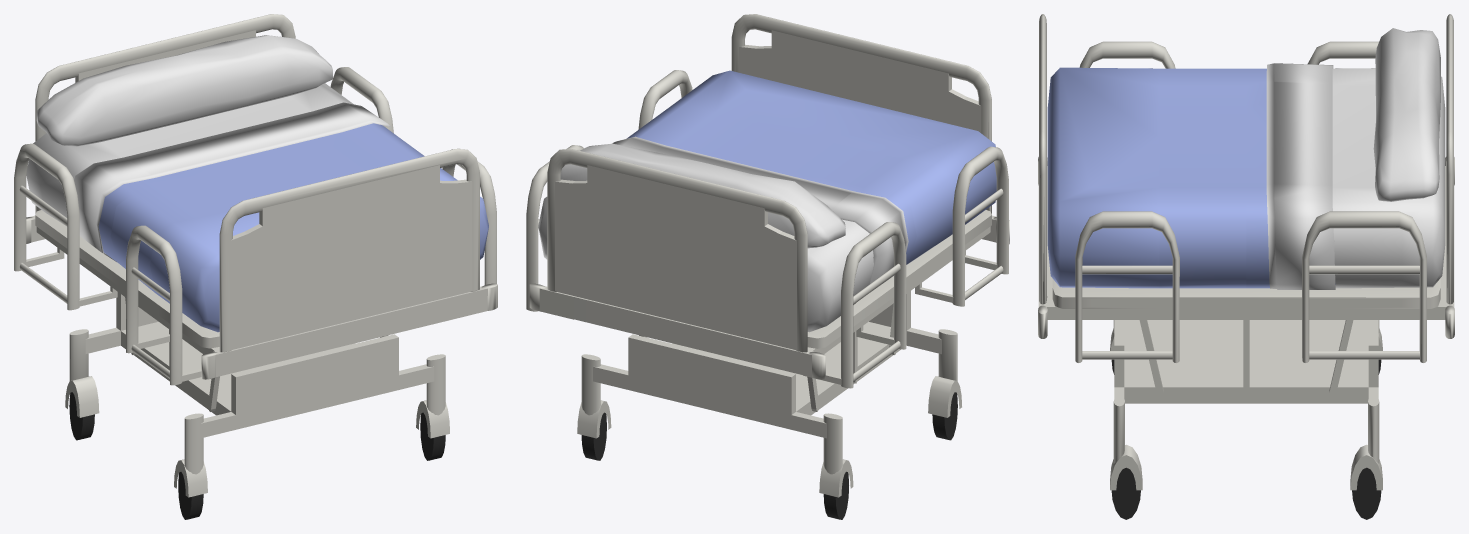
Rendered from sh-scopia-adjustable-hospital-bed.glb.
The picture shows the model from 3 angles, left to right: view 1: azimuth 30°, elevation 25°; view 2: azimuth 150°, elevation 25°; view 3: azimuth 270°, elevation 25°; orthographic projection. The views are drawn at different scales.
Visible parts, largest first — view 1: FootProtection, sweethome3d_opening_on_hinge_1_Quilt, MiddleMattress, BaseAndWheels; view 2: FootProtection, MiddleMattress, sweethome3d_opening_on_hinge_1_Quilt, BaseAndWheels; view 3: FootProtection, MiddleMattress, sweethome3d_opening_on_hinge_1_Quilt, BaseAndWheels.
Boxes of the visible parts, x1,y1,x2,y2 form: FootProtection: (14, 14, 497, 497); sweethome3d_opening_on_hinge_1_Quilt: (26, 35, 390, 261); MiddleMattress: (98, 123, 488, 332); BaseAndWheels: (69, 392, 445, 519); FootProtection: (526, 14, 1009, 497); MiddleMattress: (626, 70, 996, 264); sweethome3d_opening_on_hinge_1_Quilt: (538, 136, 908, 332); BaseAndWheels: (581, 392, 957, 519); FootProtection: (1038, 14, 1454, 490); MiddleMattress: (1047, 67, 1335, 288); sweethome3d_opening_on_hinge_1_Quilt: (1266, 28, 1445, 289); BaseAndWheels: (1111, 359, 1381, 519).
Size of the model in its own units: 1 by 1 by 0.9999.
